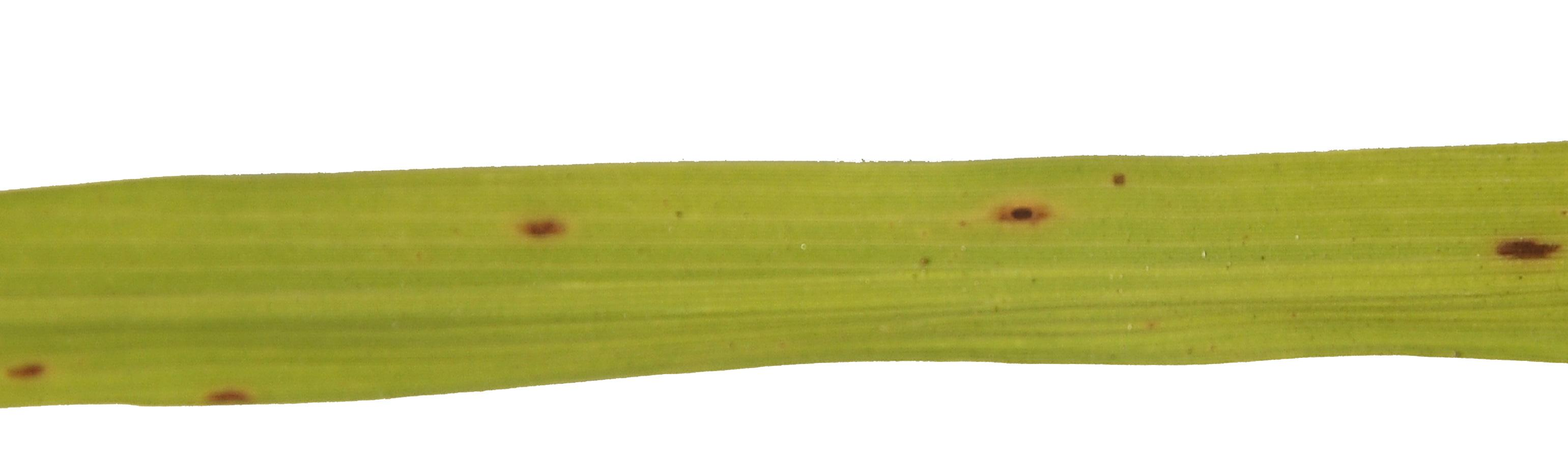Brown spot: (1474, 208, 1568, 280), (502, 202, 573, 249), (996, 180, 1053, 237), (1089, 158, 1135, 205), (12, 352, 56, 390), (200, 371, 244, 403)
